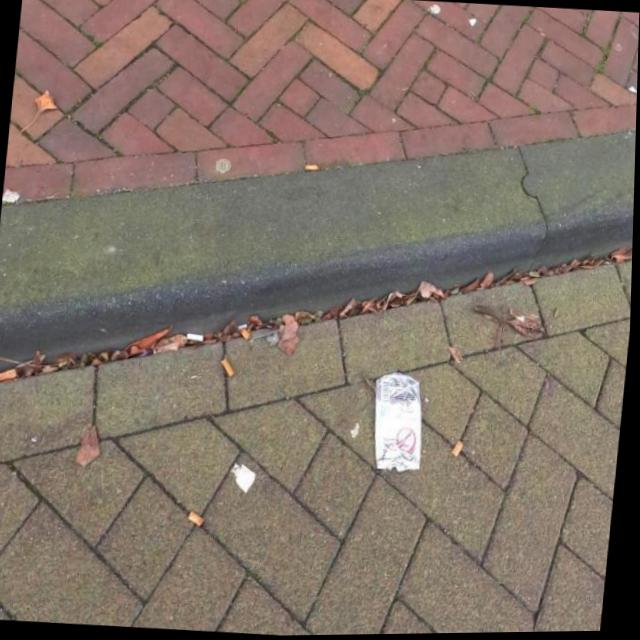Can-Metal: (365, 370, 433, 479)
